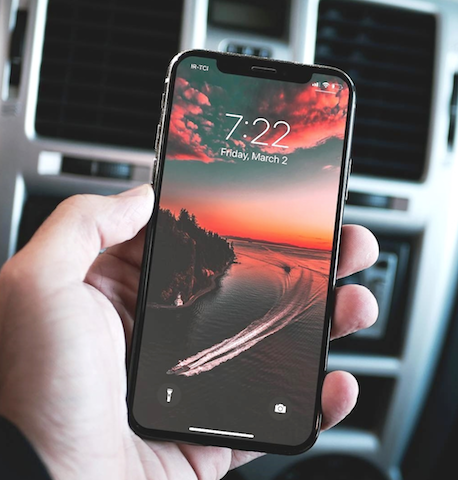phone: (124, 44, 367, 458)
